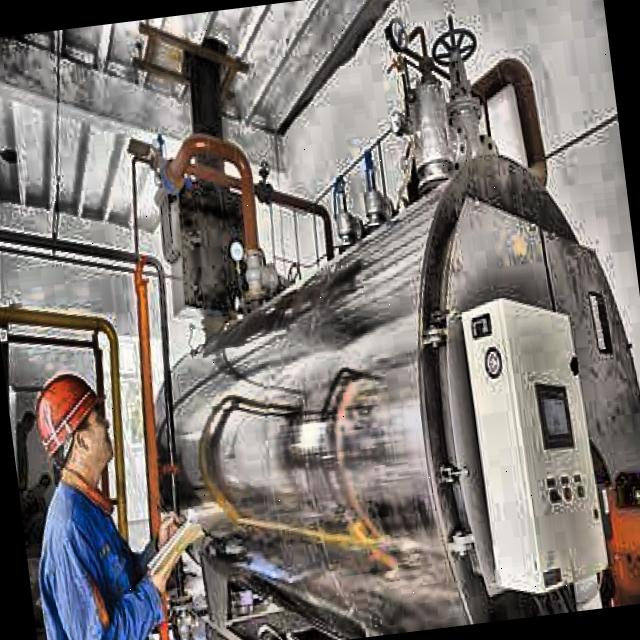helmet: (20, 350, 121, 498)
